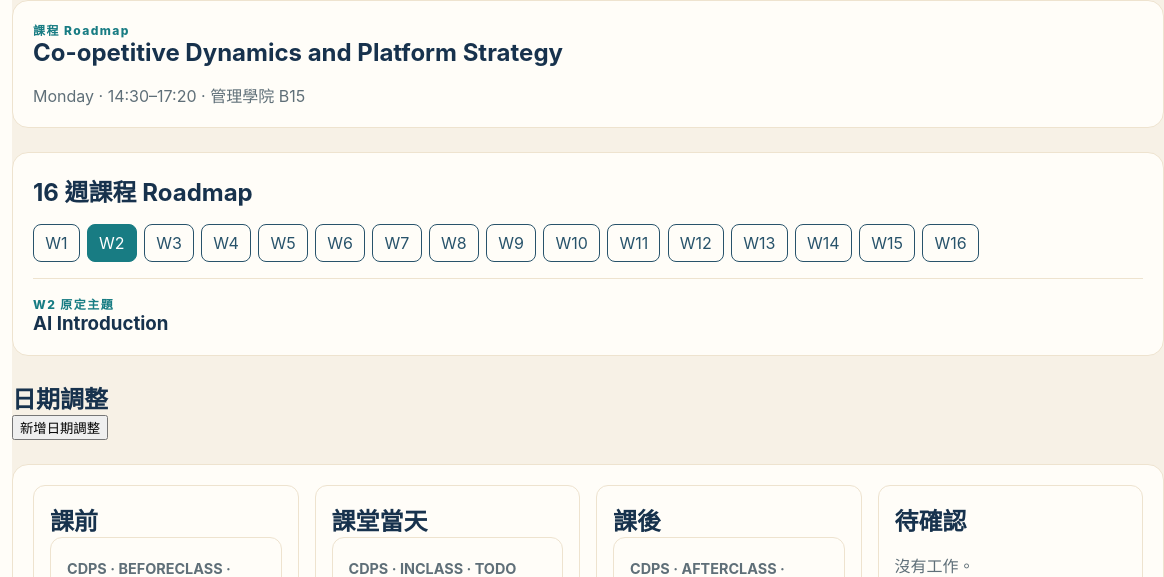
Test: CoursePage › keeps the original topic and renders a separately added makeup adjustment
The width and height of the screenshot is (1164, 577).
Click the button "新增日期調整".
click(60, 428)  # box 12,415 -> 108,440
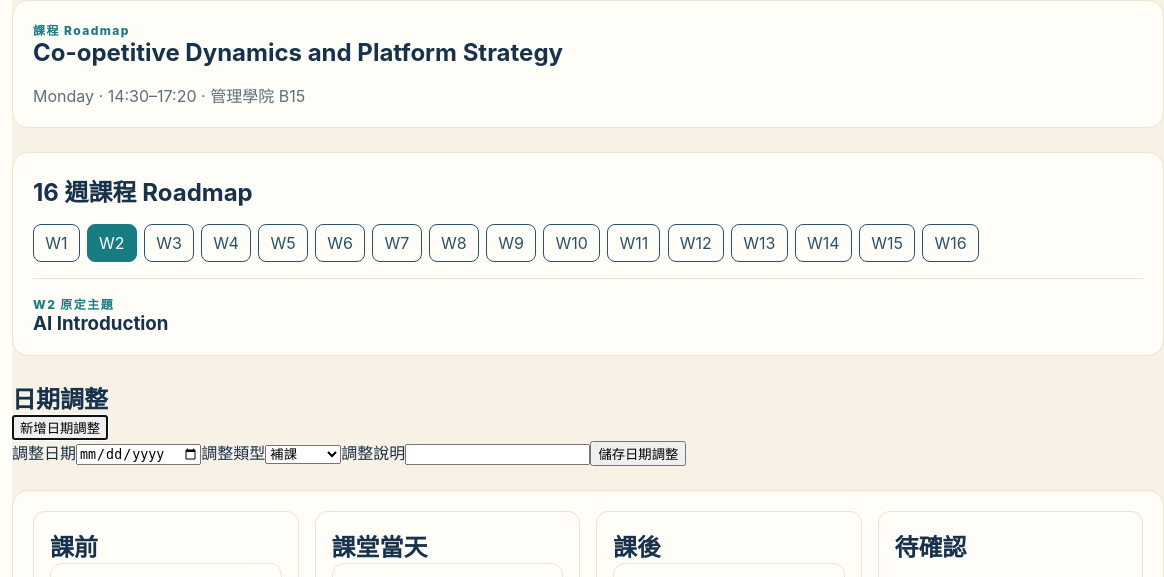
Type "2026-09-16" into the date field labelled "調整日期".
click(139, 454); type("2026-09-16")  # box 76,444 -> 201,465
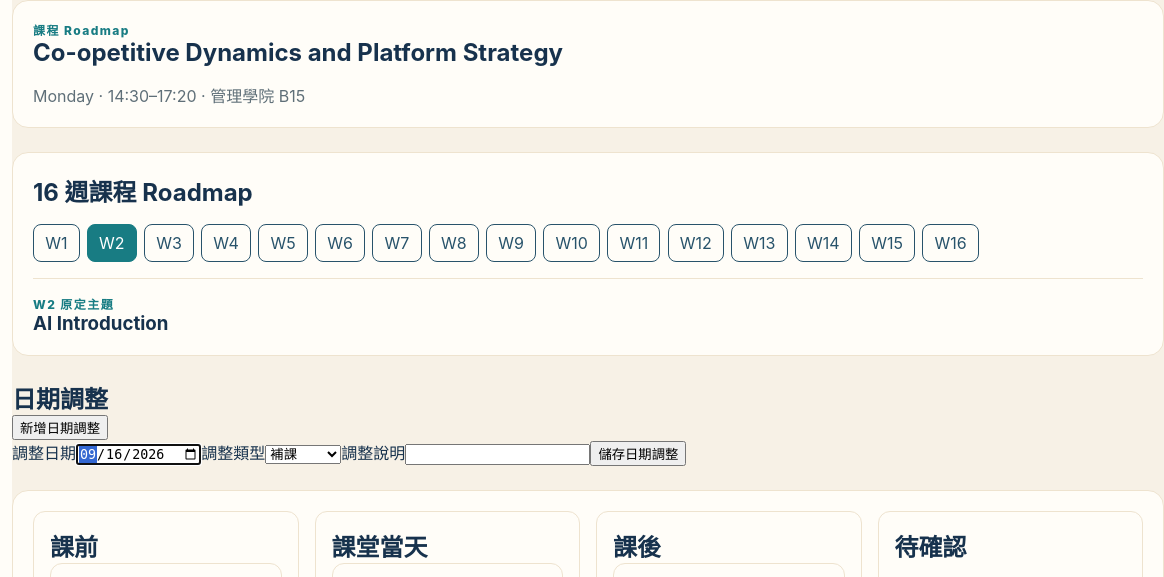
Select "補課" in the dropdown labelled "調整類型" at point(303, 454), box 265,445 -> 341,464
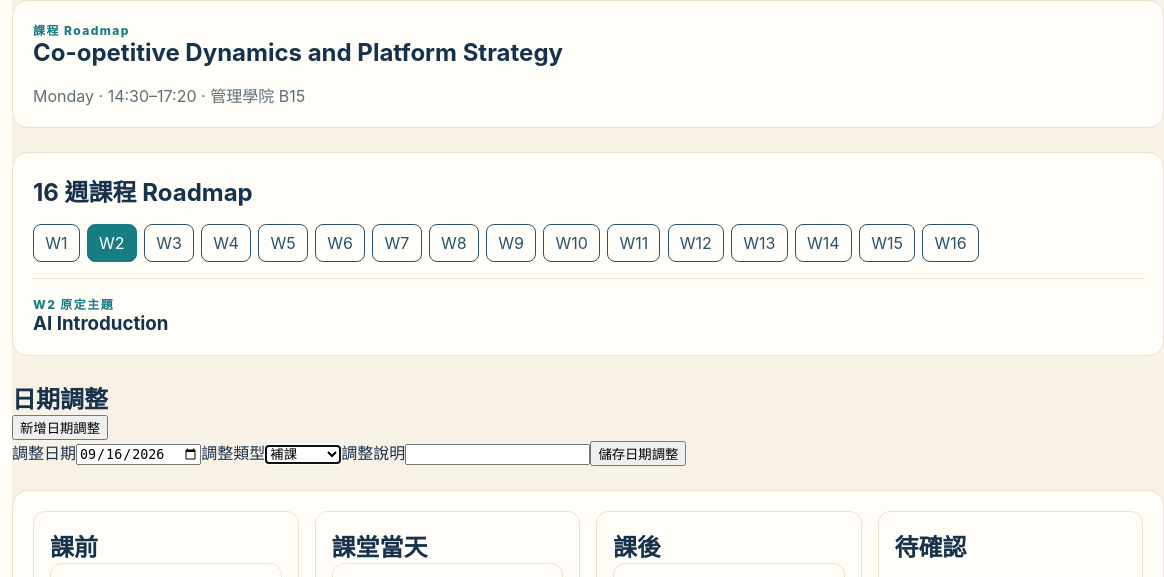
Type "W1 補課" into the field labelled "調整說明".
click(498, 454); type("W1 補課")  # box 405,444 -> 590,465
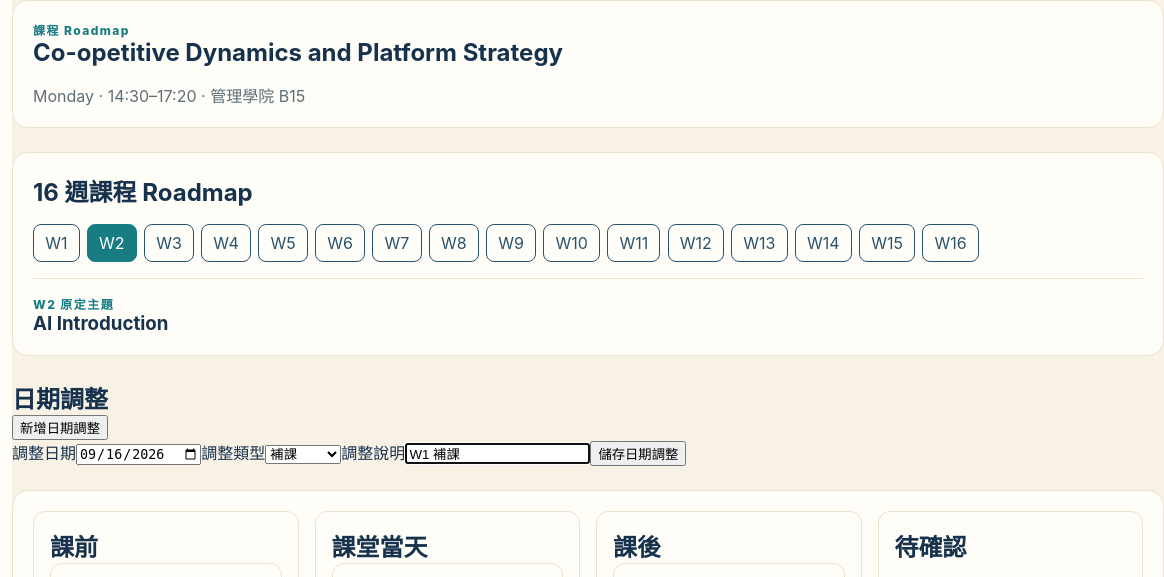
Click the button "儲存日期調整".
click(638, 454)  # box 590,441 -> 686,466
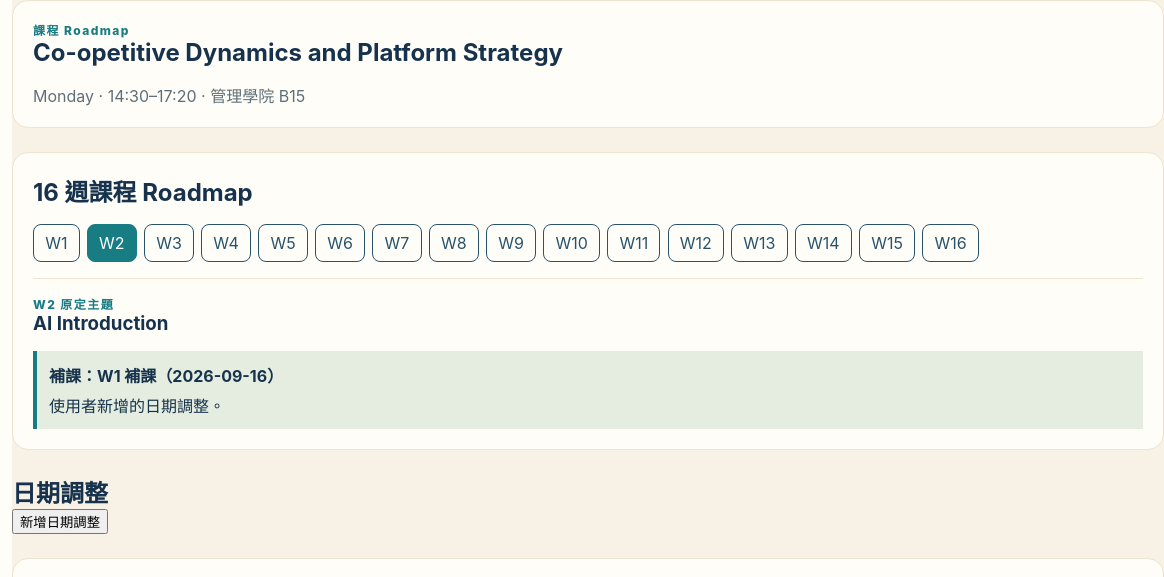
Expected: the heading "AI Introduction" is shown, 33,312 -> 168,335
Expected: the text "補課：W1 補課（2026-09-16）" is shown, 49,366 -> 283,386
